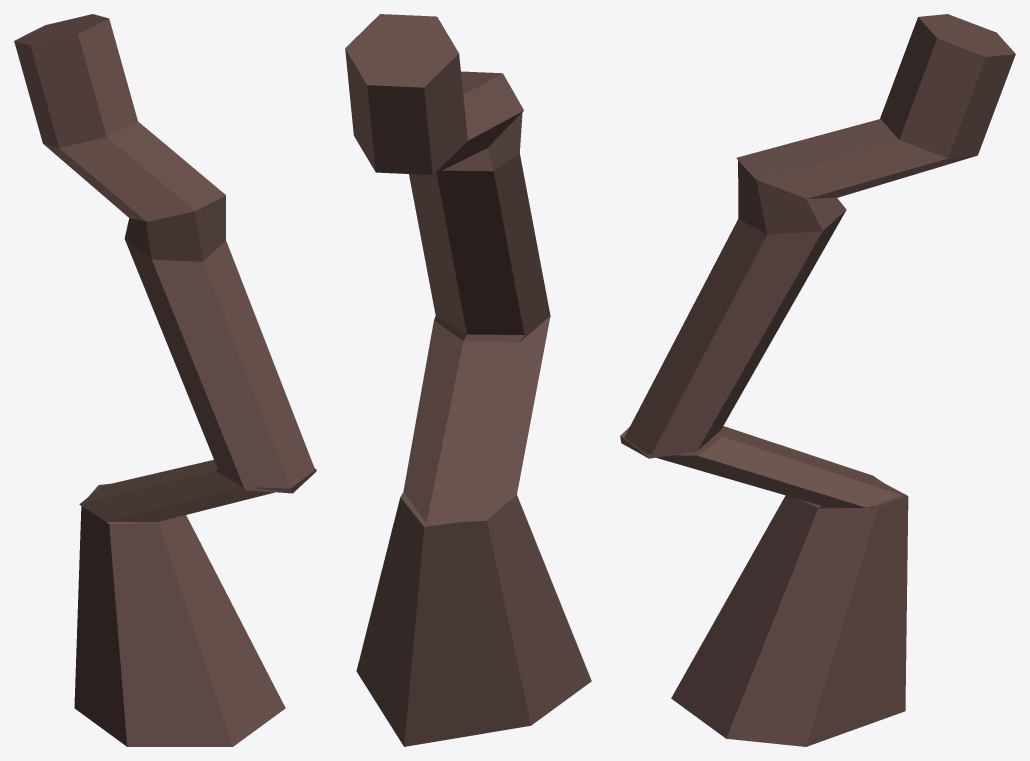
Rendered from tree dead 2.fbx.
3 views of the same model, side by side, from view 1: azimuth 30°, elevation 25°; view 2: azimuth 150°, elevation 25°; view 3: azimuth 270°, elevation 25° (orthographic). The views are drawn at different scales.
Visible parts, largest first — view 1: Cylinder; view 2: Cylinder; view 3: Cylinder.
Boxes of the visible parts, bbox=[...] form: Cylinder: bbox=[14, 14, 316, 746]; Cylinder: bbox=[345, 14, 591, 746]; Cylinder: bbox=[620, 14, 1015, 746].
Bounding box in the file's own units: 1.82 × 3.59 × 6.77.
